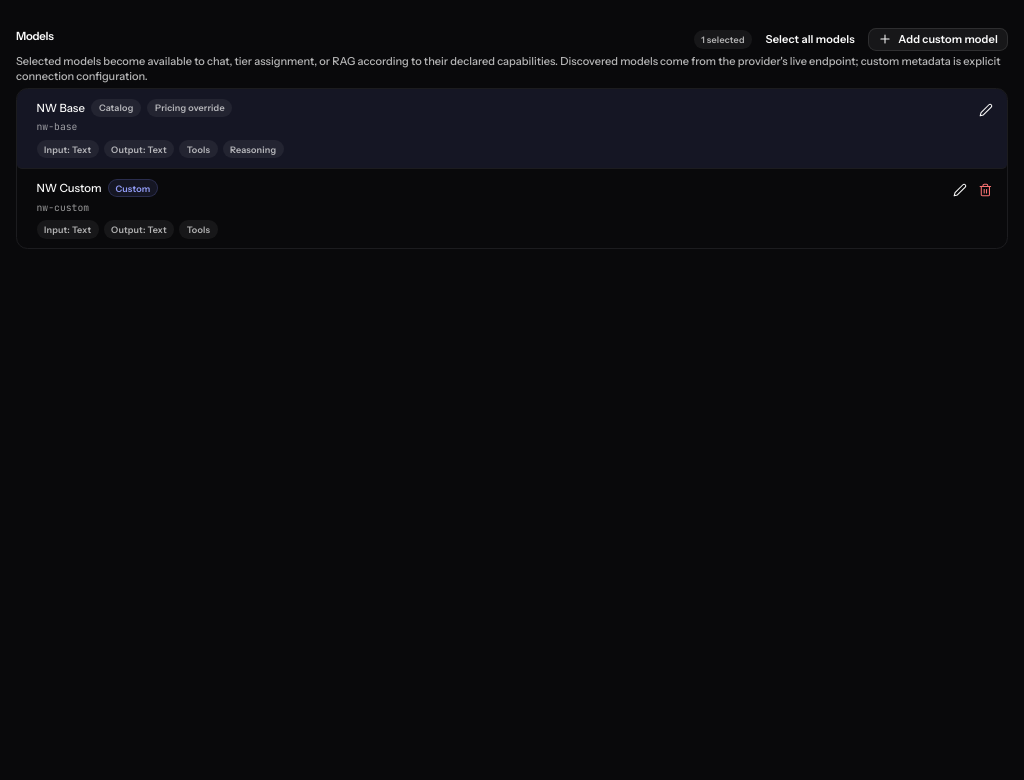
Test: connection models unified listing › shows an existing override in the model form and clears it back to catalog rates
Expected: the list item "NW Base" shows "Pricing override", [155,102,225,113]
Click the button named "Edit NW Base": (986, 110) [974,99,997,122]
(page scrolled)
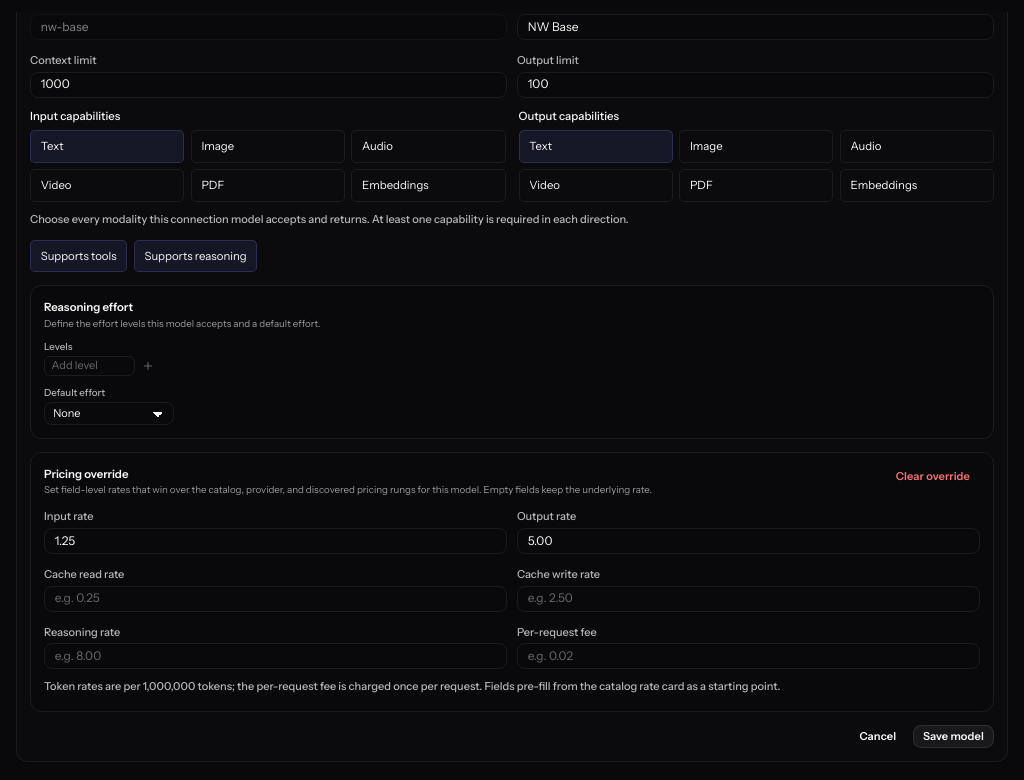
Expected: the field showing "1.25" is shown, [44,528,507,554]
Expected: the field showing "5.00" is shown, [517,528,980,554]
Click the button "Clear override": (933, 477) [886,466,980,488]
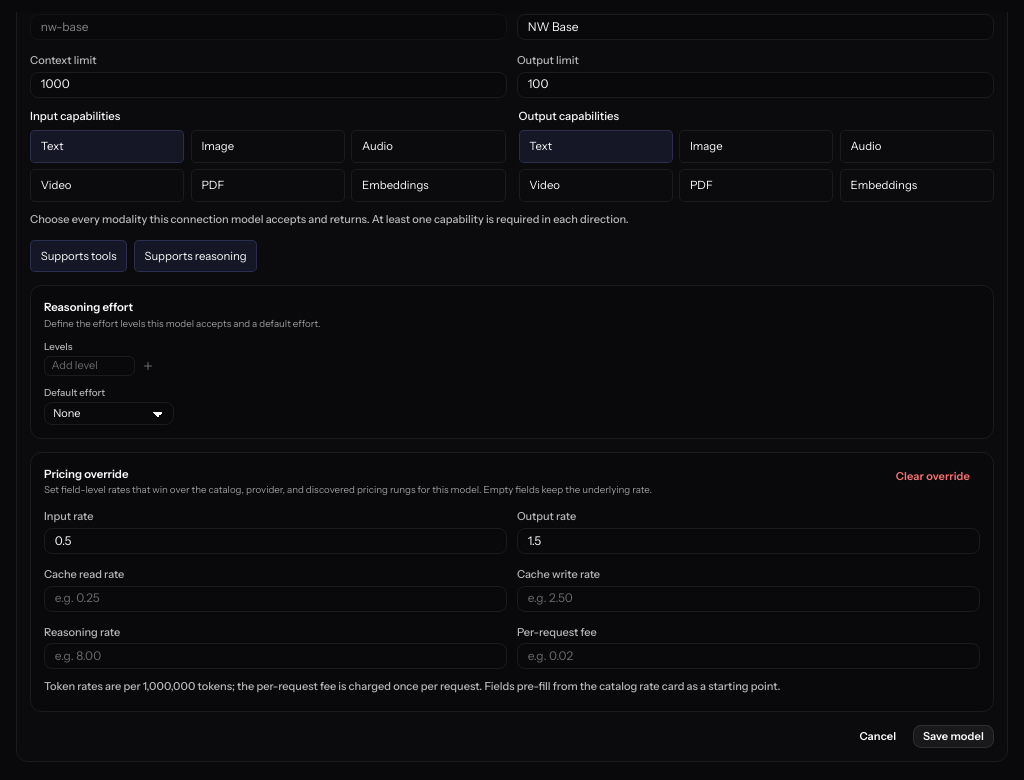
Expected: the field showing "0.5" is shown, [44,528,507,554]
